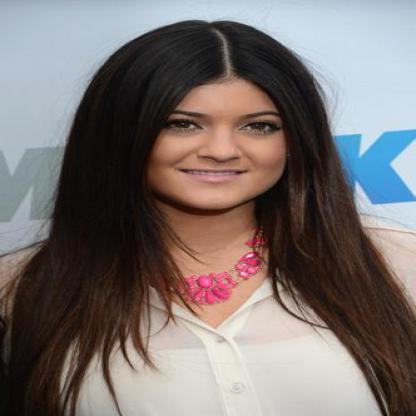long-hair: (35, 214, 378, 269)
